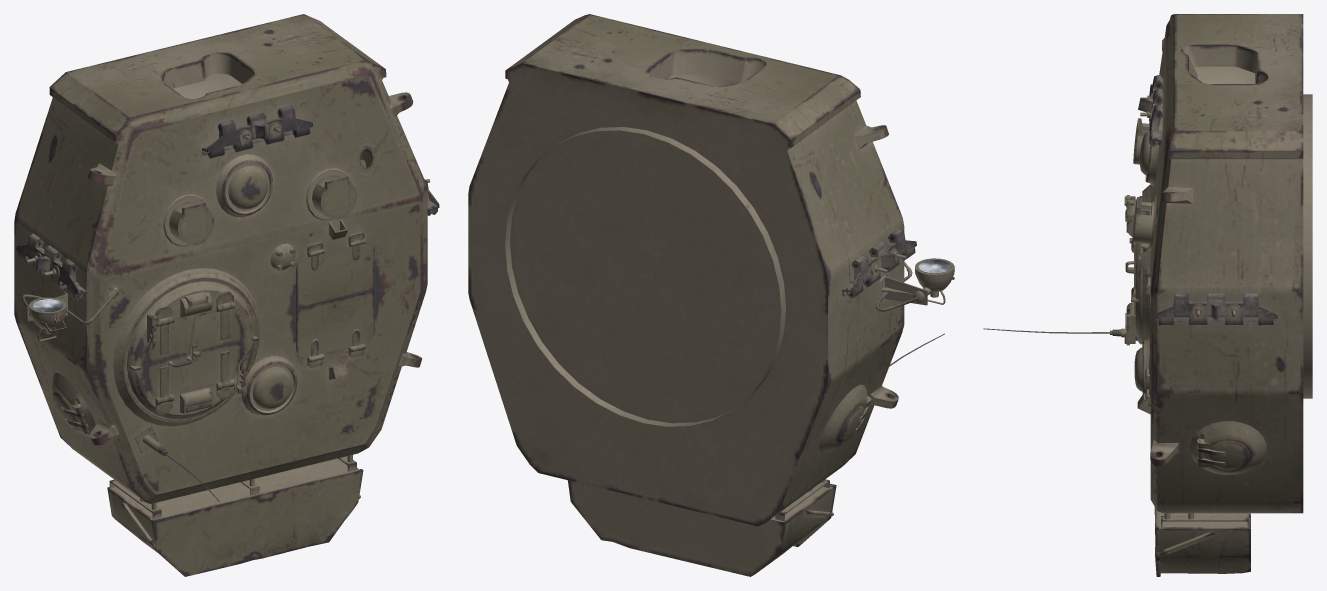
Rendered from Turret_01.glb.
3 views of the same model, side by side, from view 1: azimuth 30°, elevation 25°; view 2: azimuth 150°, elevation 25°; view 3: azimuth 270°, elevation 25° (orthographic). The views are drawn at different scales.
Parts seen in each view (by area): view 1: set_0_group_0; view 2: set_0_group_0; view 3: set_0_group_0.
Part boxes in pixels (x1,y1,x2,y2): set_0_group_0: (14, 14, 439, 576); set_0_group_0: (468, 14, 954, 576); set_0_group_0: (983, 14, 1312, 576).
Size of the model in its own units: 2.36 by 2.53 by 1.61.
1 material, 1 textured.
